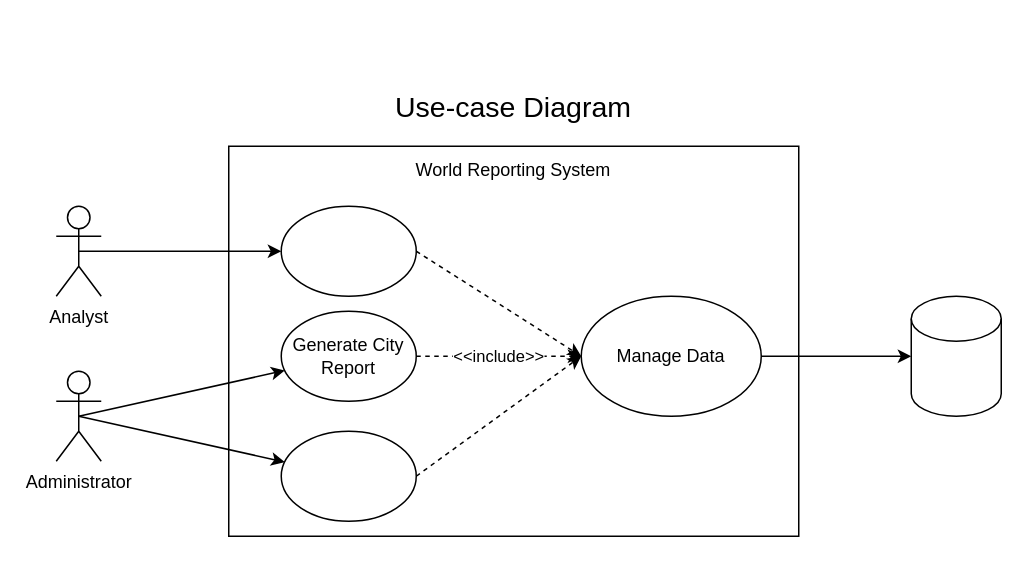
Some shapes in this 1028 by 563 pixel diagram are drawn without their labels. The box of each missing label's shape, as (x1, y1, x2, y2) in pixels:
Database: (910, 295, 1001, 416)
Generate Country Report: (280, 205, 416, 296)
Sort Reports by Population: (280, 430, 416, 521)
